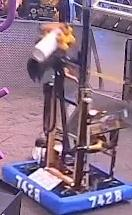blue_number: (13, 173, 43, 204), (87, 188, 124, 209)
